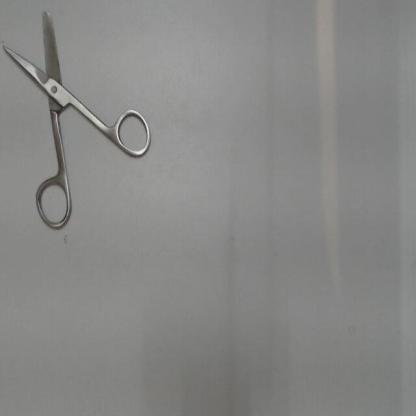Dressing Scissors: (1, 7, 157, 237)
